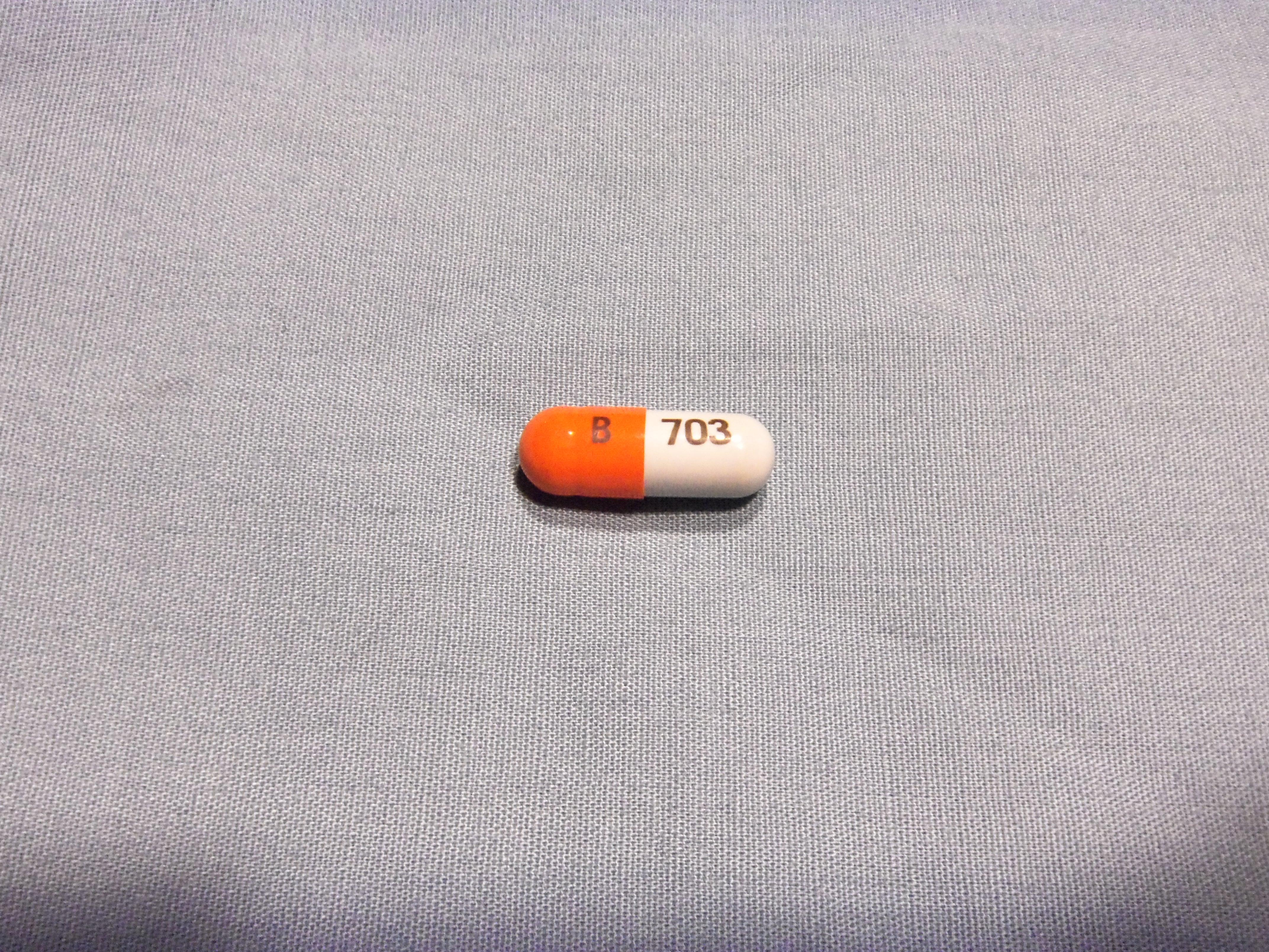Pill: (512, 397, 781, 512)
